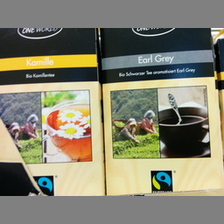tea: (99, 28, 223, 196), (1, 28, 106, 196)
